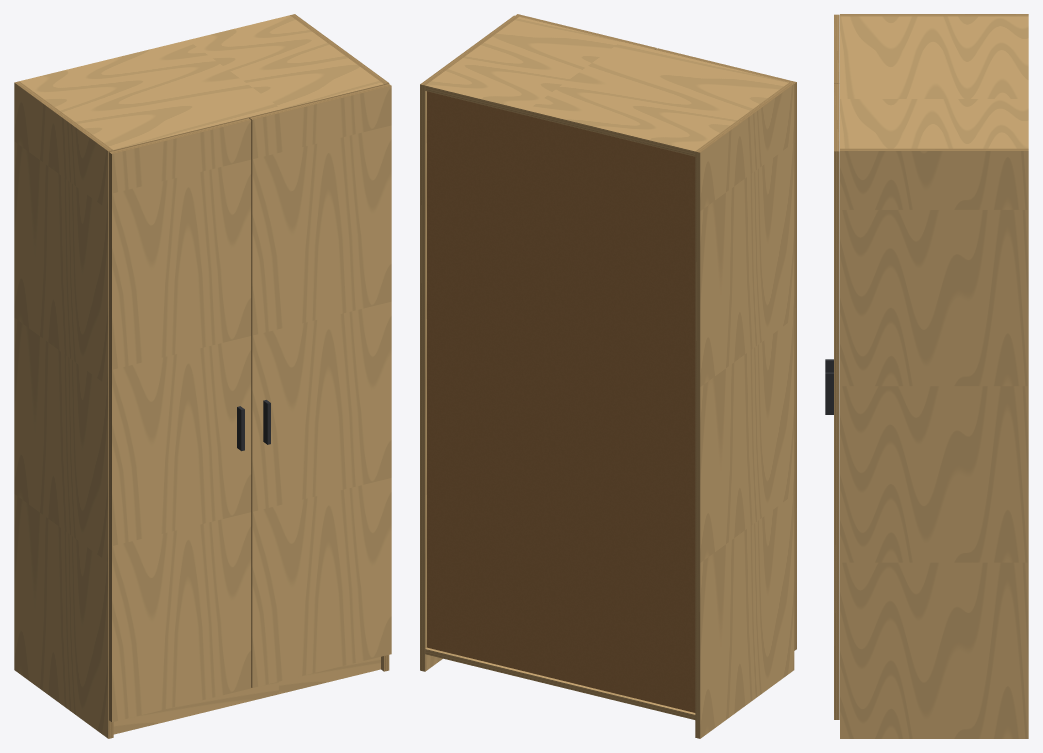
Rendered from HIN-WRD-single.glb.
The picture shows the model from 3 angles, left to right: view 1: azimuth 30°, elevation 25°; view 2: azimuth 150°, elevation 25°; view 3: azimuth 270°, elevation 25°; orthographic projection.
Visible parts, largest first — view 1: door-r:sheet:eyJtIjoicGx5Iiwic2lkZSI6ImZhY2UiLCJzZWVkIjoyLCJ, door-l:sheet:eyJtIjoicGx5Iiwic2lkZSI6ImZhY2UiLCJzZWVkIjoyLCJ, side-l:sheet:eyJtIjoicGx5Iiwic2lkZSI6ImZhY2UiLCJzZWVkIjoxLCJ, top:sheet:eyJtIjoicGx5Iiwic2lkZSI6ImZhY2UiLCJzZWVkIjo2LCJ2ZW, plinth:sheet:eyJtIjoicGx5Iiwic2lkZSI6ImZhY2UiLCJzZWVkIjozLCJ, door-l:sheet:eyJtIjoicGx5Iiwic2lkZSI6ImVkZ2UtbG9uZyIsInNlZWQ, door-r:sheet:eyJtIjoicGx5Iiwic2lkZSI6ImVkZ2UtbG9uZyIsInNlZWQ, pull, side-l:sheet:eyJtIjoicGx5Iiwic2lkZSI6ImVkZ2UtbG9uZyIsInNlZWQ; view 2: back:sheet:eyJtIjoibWRmIiwic2lkZSI6ImZhY2UiLCJzZWVkIjoxLCJ0a, side-l:sheet:eyJtIjoicGx5Iiwic2lkZSI6ImZhY2UiLCJzZWVkIjoxLCJ, top:sheet:eyJtIjoicGx5Iiwic2lkZSI6ImZhY2UiLCJzZWVkIjo2LCJ2ZW, side-l:sheet:eyJtIjoicGx5Iiwic2lkZSI6ImVkZ2UtbG9uZyIsInNlZWQ, side-r:sheet:eyJtIjoicGx5Iiwic2lkZSI6ImVkZ2UtbG9uZyIsInNlZWQ, door-l:sheet:eyJtIjoicGx5Iiwic2lkZSI6ImVkZ2UtbG9uZyIsInNlZWQ, bottom:sheet:eyJtIjoicGx5Iiwic2lkZSI6ImVkZ2UtbG9uZyIsInNlZWQ, top:sheet:eyJtIjoicGx5Iiwic2lkZSI6ImVkZ2UtbG9uZyIsInNlZWQiOj, side-r:sheet:eyJtIjoicGx5Iiwic2lkZSI6ImZhY2UiLCJzZWVkIjozLCJ, bottom:sheet:eyJtIjoicGx5Iiwic2lkZSI6ImZhY2UiLCJzZWVkIjowLCJ; view 3: side-r:sheet:eyJtIjoicGx5Iiwic2lkZSI6ImZhY2UiLCJzZWVkIjozLCJ, top:sheet:eyJtIjoicGx5Iiwic2lkZSI6ImZhY2UiLCJzZWVkIjo2LCJ2ZW, door-r:sheet:eyJtIjoicGx5Iiwic2lkZSI6ImVkZ2UtbG9uZyIsInNlZWQ, side-l:sheet:eyJtIjoicGx5Iiwic2lkZSI6ImVkZ2UtZW5kIiwic2VlZCI, side-r:sheet:eyJtIjoicGx5Iiwic2lkZSI6ImVkZ2UtZW5kIiwic2VlZCI, pull, door-l:sheet:eyJtIjoicGx5Iiwic2lkZSI6ImVkZ2UtZW5kIiwic2VlZCI, door-r:sheet:eyJtIjoicGx5Iiwic2lkZSI6ImVkZ2UtZW5kIiwic2VlZCI.
Boxes of the visible parts, <box> form: door-r:sheet:eyJtIjoicGx5Iiwic2lkZSI6ImZhY2UiLCJzZWVkIjoyLCJ: <box>252,86,391,687</box>; door-l:sheet:eyJtIjoicGx5Iiwic2lkZSI6ImZhY2UiLCJzZWVkIjoyLCJ: <box>112,120,251,722</box>; side-l:sheet:eyJtIjoicGx5Iiwic2lkZSI6ImZhY2UiLCJzZWVkIjoxLCJ: <box>14,83,108,738</box>; top:sheet:eyJtIjoicGx5Iiwic2lkZSI6ImZhY2UiLCJzZWVkIjo2LCJ2ZW: <box>19,15,383,150</box>; plinth:sheet:eyJtIjoicGx5Iiwic2lkZSI6ImZhY2UiLCJzZWVkIjozLCJ: <box>113,657,380,734</box>; door-l:sheet:eyJtIjoicGx5Iiwic2lkZSI6ImVkZ2UtbG9uZyIsInNlZWQ: <box>109,152,111,721</box>; door-r:sheet:eyJtIjoicGx5Iiwic2lkZSI6ImVkZ2UtbG9uZyIsInNlZWQ: <box>249,118,252,687</box>; pull: <box>237,400,270,451</box>; side-l:sheet:eyJtIjoicGx5Iiwic2lkZSI6ImVkZ2UtbG9uZyIsInNlZWQ: <box>108,150,113,738</box>; back:sheet:eyJtIjoibWRmIiwic2lkZSI6ImZhY2UiLCJzZWVkIjoxLCJ0a: <box>427,91,695,712</box>; side-l:sheet:eyJtIjoicGx5Iiwic2lkZSI6ImZhY2UiLCJzZWVkIjoxLCJ: <box>700,84,794,738</box>; top:sheet:eyJtIjoicGx5Iiwic2lkZSI6ImZhY2UiLCJzZWVkIjo2LCJ2ZW: <box>425,16,788,151</box>; side-l:sheet:eyJtIjoicGx5Iiwic2lkZSI6ImVkZ2UtbG9uZyIsInNlZWQ: <box>695,151,700,738</box>; side-r:sheet:eyJtIjoicGx5Iiwic2lkZSI6ImVkZ2UtbG9uZyIsInNlZWQ: <box>420,84,425,671</box>; door-l:sheet:eyJtIjoicGx5Iiwic2lkZSI6ImVkZ2UtbG9uZyIsInNlZWQ: <box>794,82,796,650</box>; bottom:sheet:eyJtIjoicGx5Iiwic2lkZSI6ImVkZ2UtbG9uZyIsInNlZWQ: <box>425,649,695,719</box>; top:sheet:eyJtIjoicGx5Iiwic2lkZSI6ImVkZ2UtbG9uZyIsInNlZWQiOj: <box>425,85,695,156</box>; side-r:sheet:eyJtIjoicGx5Iiwic2lkZSI6ImZhY2UiLCJzZWVkIjozLCJ: <box>425,91,442,671</box>; bottom:sheet:eyJtIjoicGx5Iiwic2lkZSI6ImZhY2UiLCJzZWVkIjowLCJ: <box>425,647,695,714</box>; side-r:sheet:eyJtIjoicGx5Iiwic2lkZSI6ImZhY2UiLCJzZWVkIjozLCJ: <box>840,151,1028,738</box>; top:sheet:eyJtIjoicGx5Iiwic2lkZSI6ImZhY2UiLCJzZWVkIjo2LCJ2ZW: <box>840,16,1028,148</box>; door-r:sheet:eyJtIjoicGx5Iiwic2lkZSI6ImVkZ2UtbG9uZyIsInNlZWQ: <box>834,151,839,719</box>; side-l:sheet:eyJtIjoicGx5Iiwic2lkZSI6ImVkZ2UtZW5kIiwic2VlZCI: <box>840,14,1028,16</box>; side-r:sheet:eyJtIjoicGx5Iiwic2lkZSI6ImVkZ2UtZW5kIiwic2VlZCI: <box>840,148,1028,150</box>; pull: <box>825,359,833,414</box>; door-l:sheet:eyJtIjoicGx5Iiwic2lkZSI6ImVkZ2UtZW5kIiwic2VlZCI: <box>834,14,839,82</box>; door-r:sheet:eyJtIjoicGx5Iiwic2lkZSI6ImVkZ2UtZW5kIiwic2VlZCI: <box>834,83,839,151</box>.
Size of the model in its own units: 1 by 2 by 0.6271.
34 materials, 33 textured.
